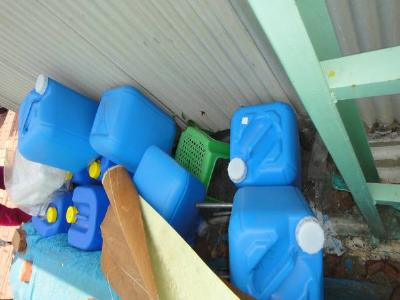bucket: (227, 184, 330, 300), (13, 72, 103, 174), (88, 84, 182, 173), (132, 144, 208, 243), (221, 101, 306, 187)
